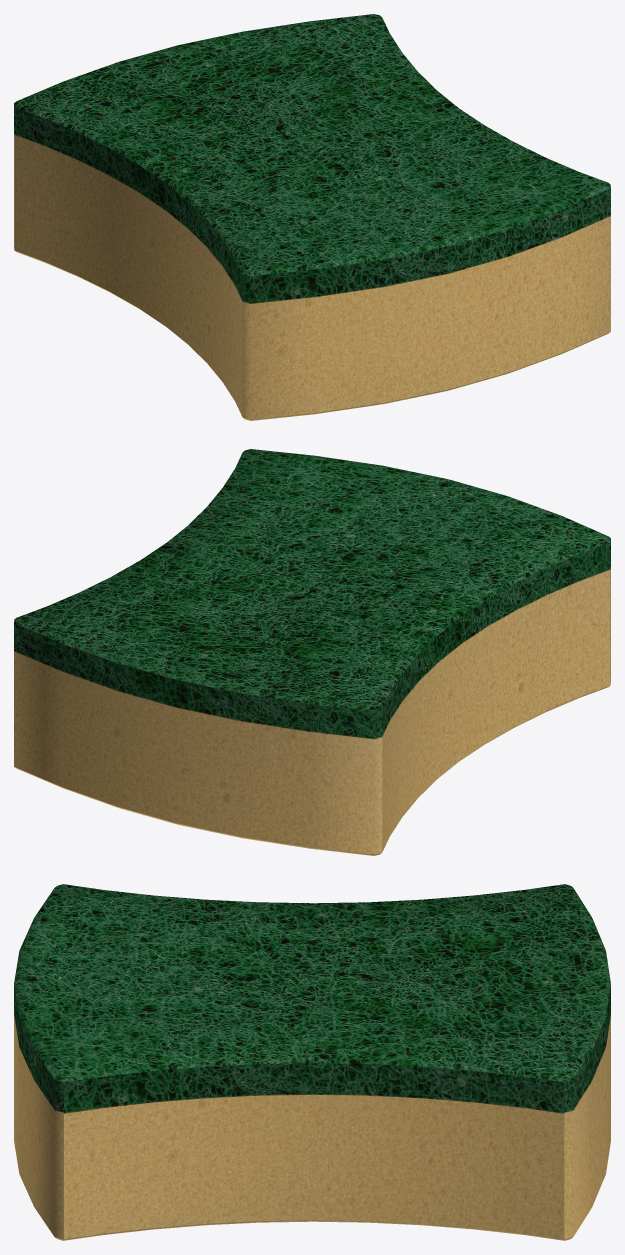
The picture shows the model from 3 angles, top to bottom: view 1: azimuth 30°, elevation 25°; view 2: azimuth 150°, elevation 25°; view 3: azimuth 270°, elevation 25°; orthographic projection. The views are drawn at different scales.
Parts seen in each view (by area): view 1: Sponge3; view 2: Sponge3; view 3: Sponge3.
Part boxes in pixels (x1,y1,x2,y2): Sponge3: [14, 14, 610, 420]; Sponge3: [14, 449, 610, 855]; Sponge3: [14, 884, 610, 1240].
Bounding box in the file's own units: 0.0779 × 0.03 × 0.0999.
1 material, 1 textured.
